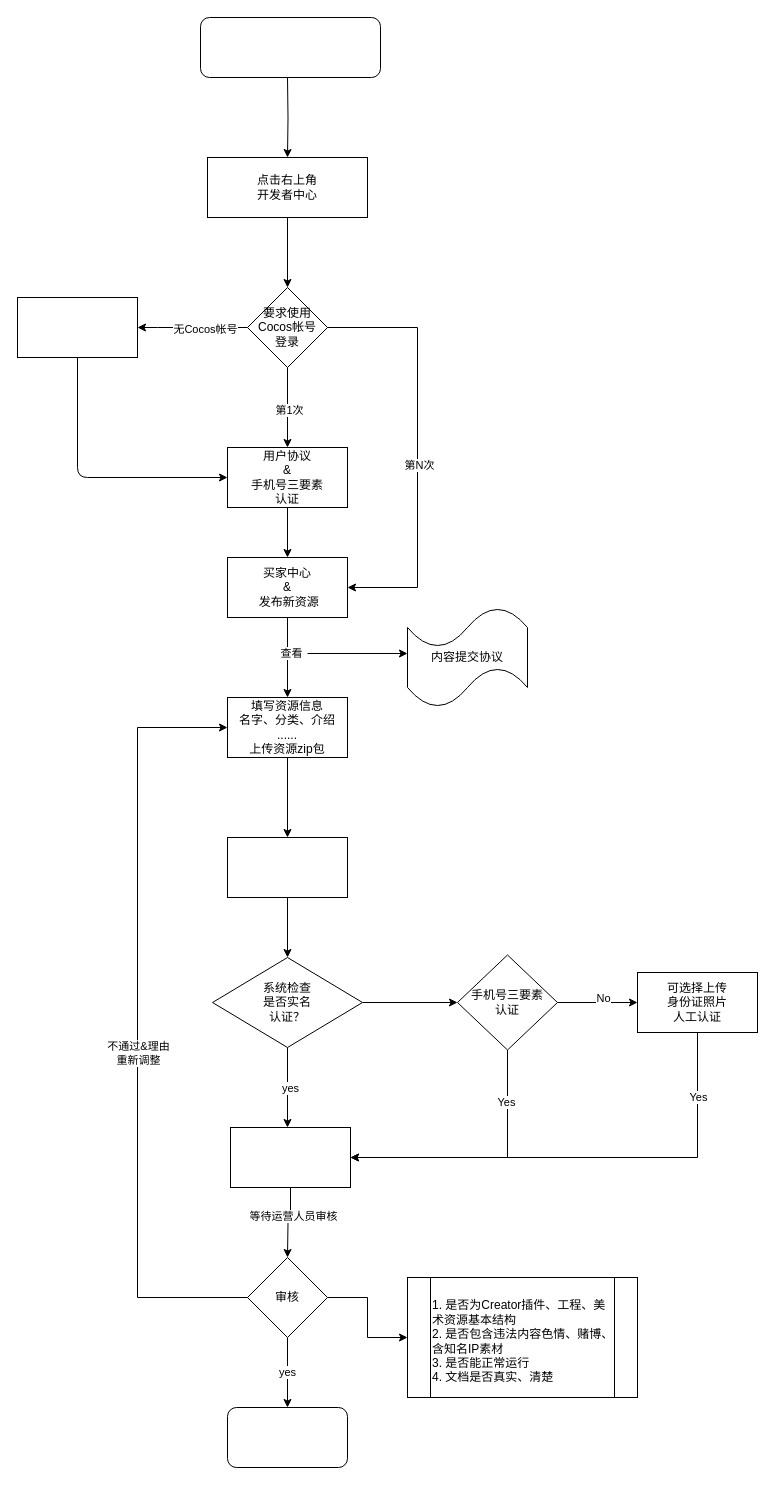
This 775x1485 diagram has some shape labels left out. The box of each missing label's shape, as (x1, y1, x2, y2) in pixels:
提交审核: (226, 836, 348, 898)
注册Cocos帐号: (16, 296, 138, 358)
用户进入 https://store.cocos.com: (200, 16, 380, 78)
进入审核状态: (230, 1126, 350, 1188)
邮件通知作者 & 在商店中展示: (226, 1406, 348, 1468)
